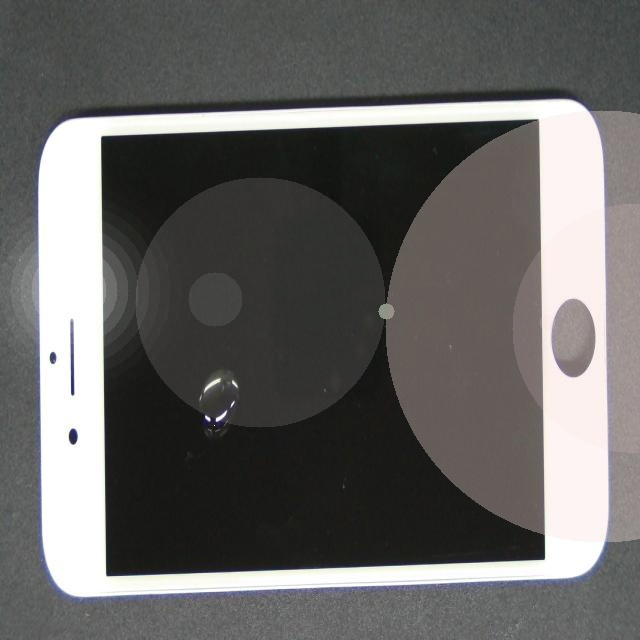oil: (112, 230, 361, 623)
